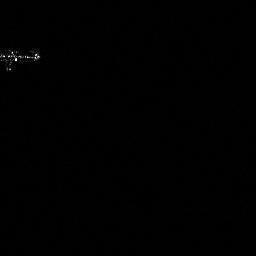ship: (1, 48, 48, 77)
